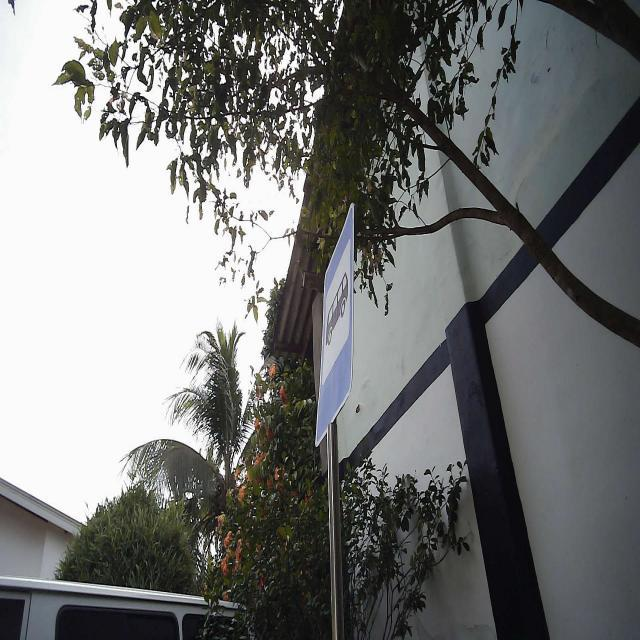bus_stop: (314, 202, 356, 450)
